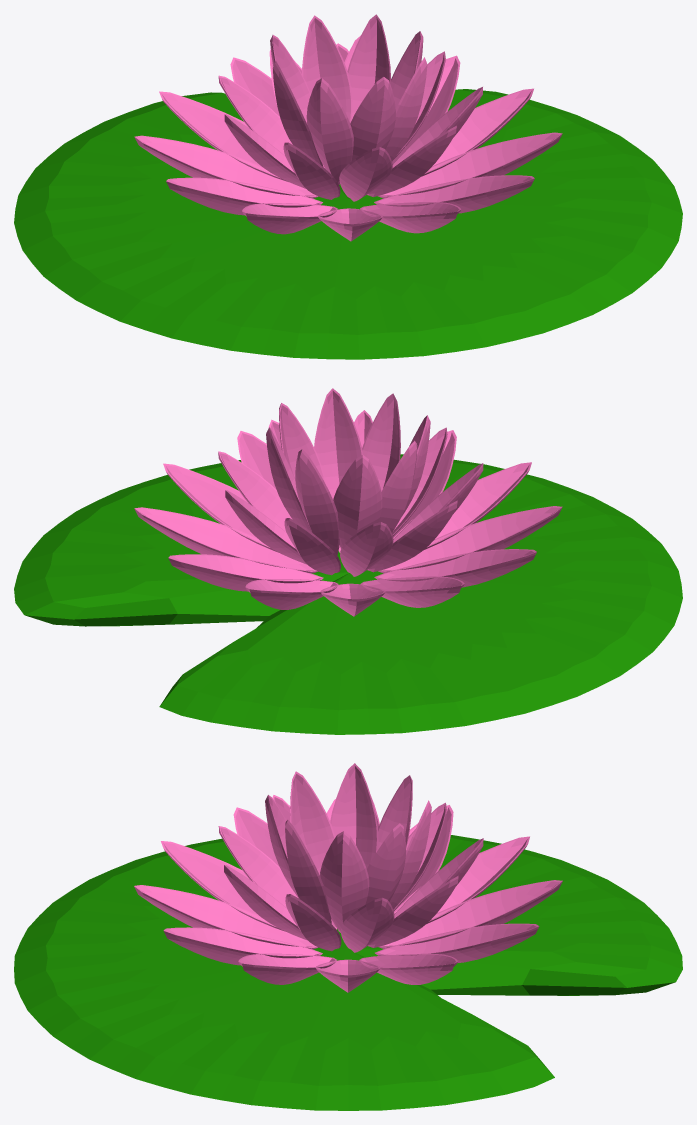
Rendered from Lillypad 1.fbx.
3 views of the same model, one above another, from view 1: azimuth 30°, elevation 25°; view 2: azimuth 150°, elevation 25°; view 3: azimuth 270°, elevation 25° (orthographic).
Parts seen in each view (by area): view 1: Cylinder; view 2: Cylinder; view 3: Cylinder.
Boxes of the visible parts, x1,y1,x2,y2 form: Cylinder: [14, 14, 682, 359]; Cylinder: [14, 388, 682, 734]; Cylinder: [14, 763, 682, 1110].
Size of the model in its own units: 133 by 43.31 by 133.
